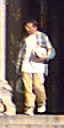person: (6, 19, 54, 110)
